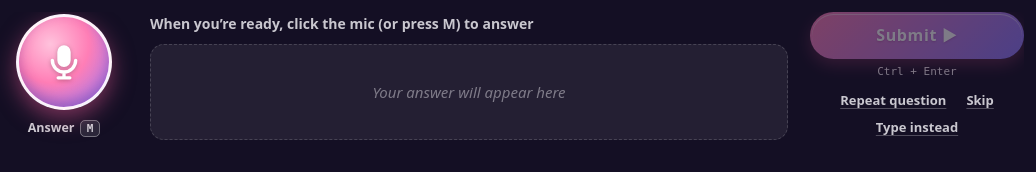
Test: AnswerPanel — voice flow › can switch from voice to typing
The width and height of the screenshot is (1036, 172).
Click the button with test id "answer-use-keyboard" at (917, 128), box top-left (868, 115), bottom-right (966, 140)
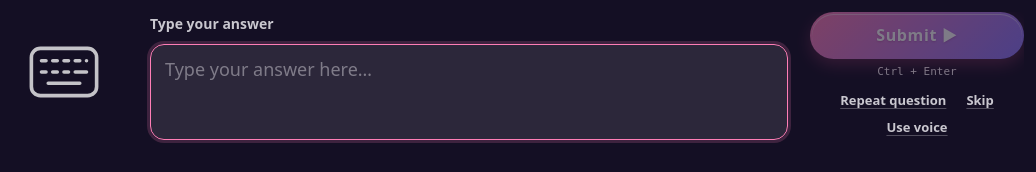
Now the button with test id "answer-use-voice" is shown, box top-left (878, 115), bottom-right (956, 140)
